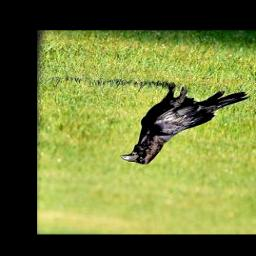Crow: (117, 81, 250, 167)
